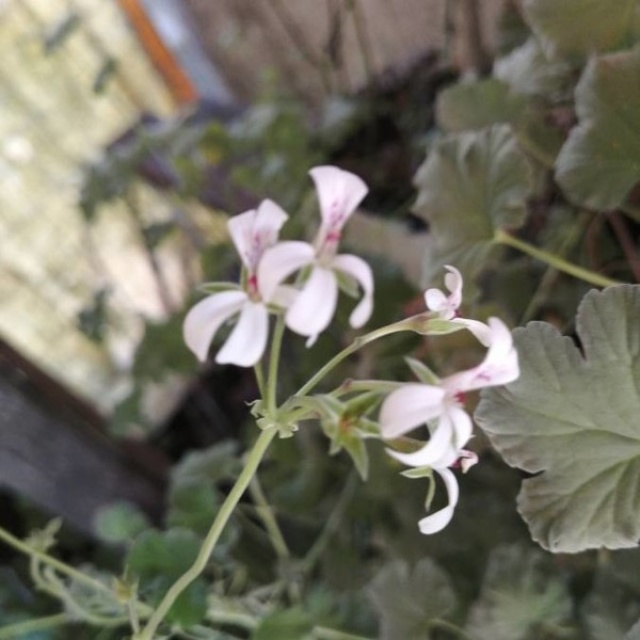obstacle: (134, 156, 538, 534)
